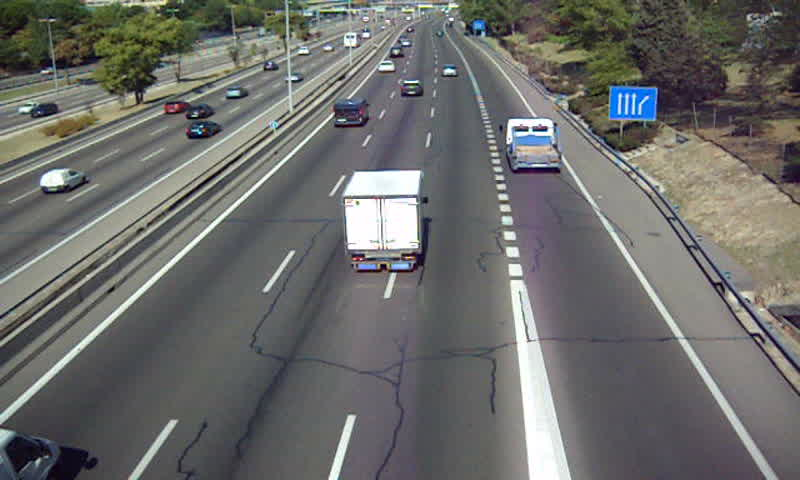car: (399, 79, 424, 100), (377, 59, 395, 75), (442, 64, 458, 76)
small-truck: (343, 170, 425, 271), (504, 117, 561, 171)
van: (332, 99, 368, 125)
